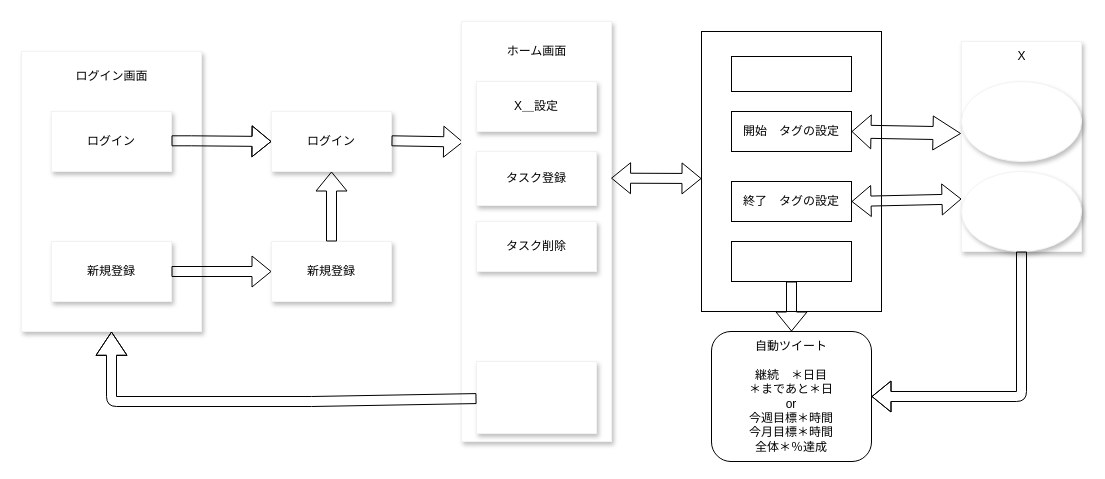
Some shapes in this 1105 by 479 pixel diagram are drawn without their labels. Each missing label, with the centre of its shape:
X投稿 ＃クローズ＃プログラミング: (x=1022, y=122)
X投稿 ＃スタート＃プログラミング: (x=1022, y=212)
タイトル: (x=791, y=74)
ログアウト: (x=537, y=398)
目標 or 目標継続日: (x=791, y=261)
